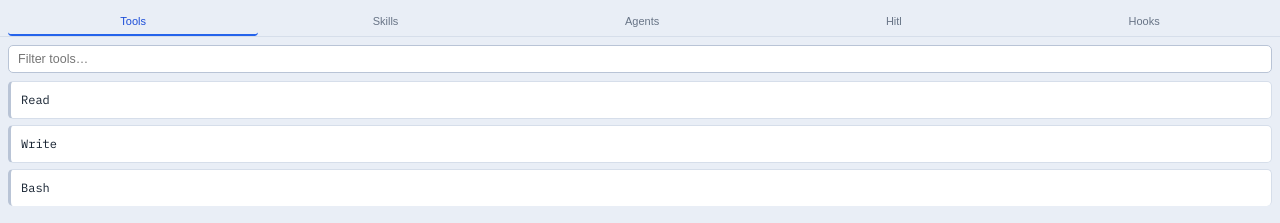
Palette — loaded-framework source (M08.6.E) › loaded_framework_skills_appear_in_the_skills_tab
What coordinates should you click on to do the following:
click the tab with test id "palette-tab-skills"
I would click on:
 (385, 22)
Its box is x1=260 y1=8 x2=511 y2=36.
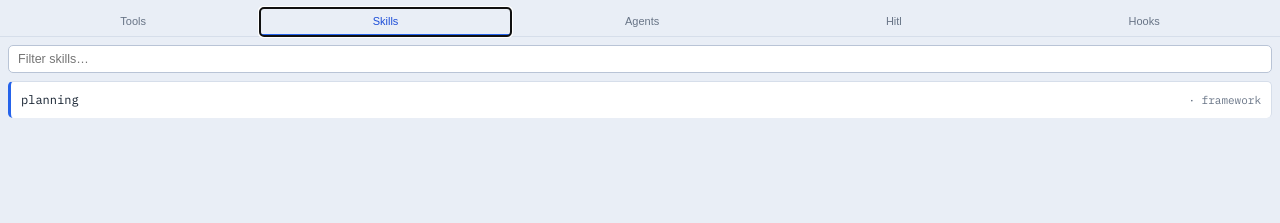
Now the list item with test id "palette-item-planning" is shown, box x1=8 y1=81 x2=1272 y2=118
